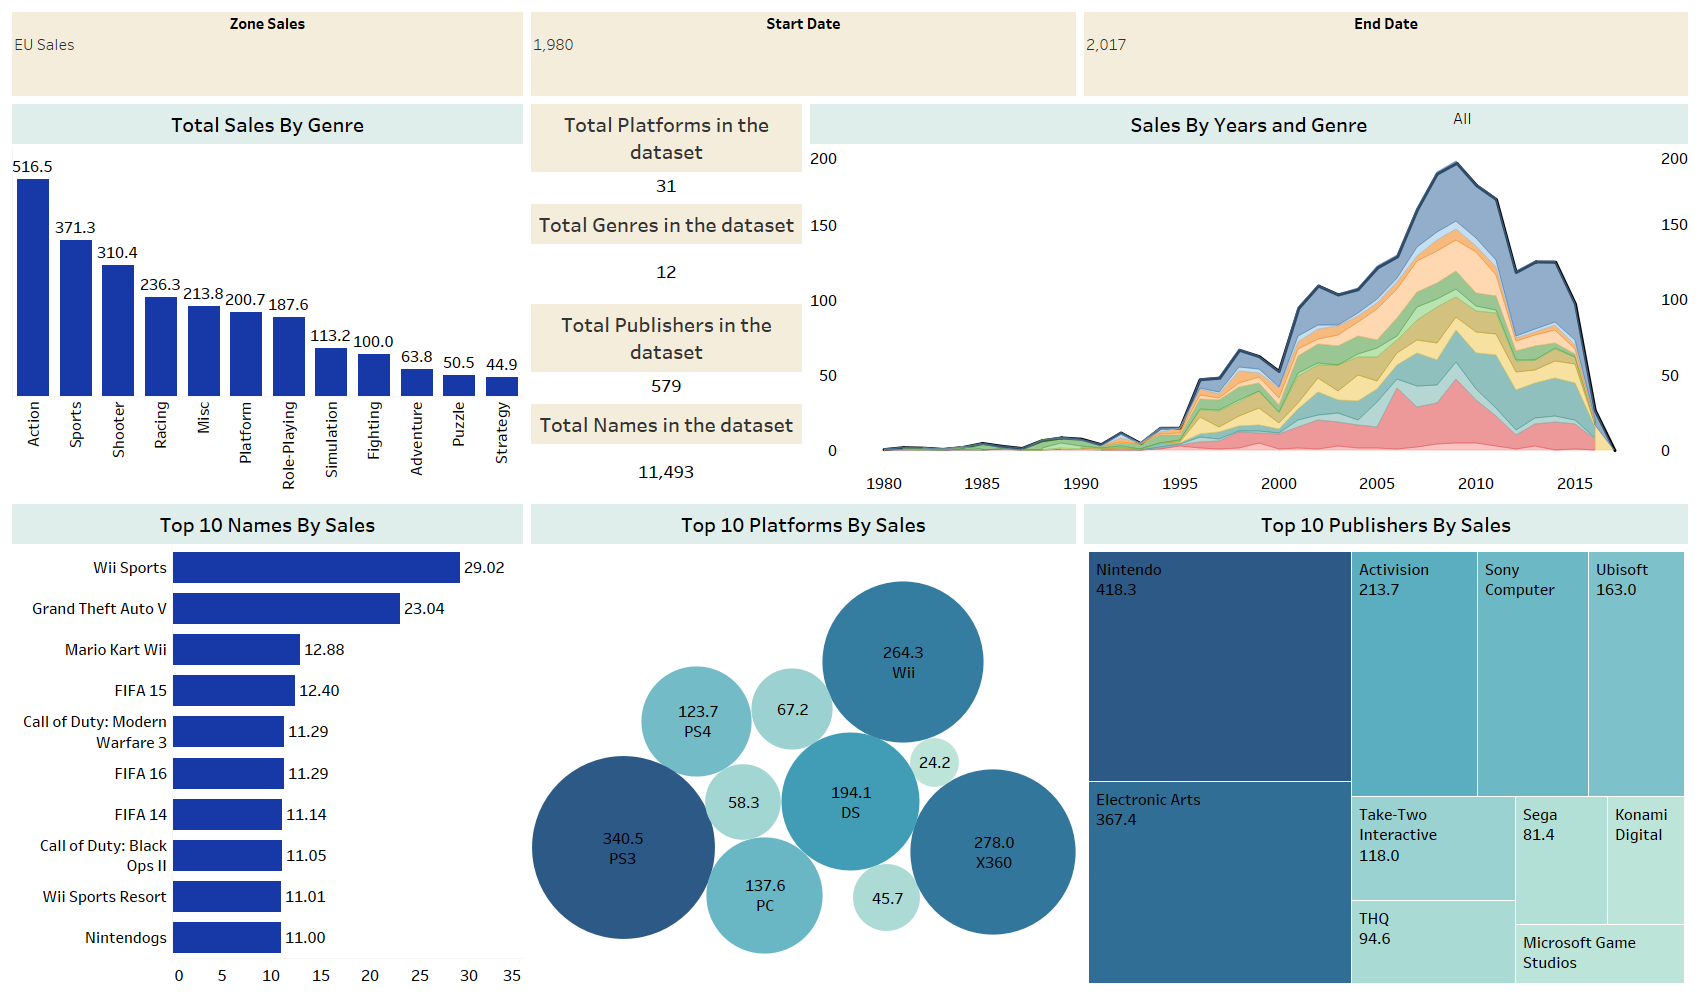

The dashboard page shown, as its layout file describes it:
{"tool":"tableau","page":{"name":"Dashboard 1","canvas":[1700,960],"ordinal":0},"visuals":[{"type":"parameter","param":"[Parameters].[Parameter 1]","box":[8,8,519.3,88.6]},{"type":"parameter","param":"[Parameters].[Parameter 2]","box":[527.3,8,552.7,88.6]},{"type":"parameter","param":"[Parameters].[Parameter 3]","box":[1080,8,612,88.6]},{"type":"worksheet","title":"Total Sales By Genre","mark":"Automatic","rows":["Calculation_377739459395584000"],"cols":["Genre"],"box":[8,96.6,519.3,383.4]},{"type":"worksheet","title":"Total Platforms in the dataset","mark":"Automatic","box":[527.3,96.6,278.8,95.9]},{"type":"worksheet","title":"Sales By Years and Genre","mark":"Automatic","rows":["Calculation_377739459395584000","Calculation_377739459395584000"],"cols":["Year"],"box":[806.1,96.6,885.9,383.4]},{"type":"filter","title":"Sales By Years and Genre","param":"[federated.0aacl4o197uxlo16p668u002sxhb].[none:Genre:nk]","box":[1451,103.7,234,30.7]},{"type":"worksheet","title":"Total Genres in the dataset","mark":"Automatic","box":[527.3,192.5,278.8,95.8]},{"type":"worksheet","title":"Total Publishers in the dataset","mark":"Automatic","box":[527.3,288.3,278.8,95.8]},{"type":"worksheet","title":"Total Names in the dataset","mark":"Automatic","box":[527.3,384.1,278.8,95.9]},{"type":"worksheet","title":"Top 10 Names By Sales","mark":"Automatic","rows":["Name"],"cols":["Calculation_377739459395584000"],"box":[8,480,519.3,472]},{"type":"worksheet","title":"Top 10 Platforms By Sales ","mark":"Circle","box":[527.3,480,552.9,472]},{"type":"worksheet","title":"Top 10 Publishers By Sales","mark":"Automatic","box":[1080.2,480,611.8,472]}]}

Visuals, with their boxes on the page's 1700x960 design canvas (x1, y1, x2, y2). These are canvas units, not pixel positions in the 1700x1000 screenshot, which may show the page scaled, cropped or inside an application window:
parameter: select_region(8, 8, 527, 97)
parameter: select_region(527, 8, 1080, 97)
parameter: select_region(1080, 8, 1692, 97)
"Total Sales By Genre" worksheet: select_region(8, 97, 527, 480)
"Total Platforms in the dataset" worksheet: select_region(527, 97, 806, 192)
"Sales By Years and Genre" worksheet: select_region(806, 97, 1692, 480)
"Sales By Years and Genre" filter: select_region(1451, 104, 1685, 134)
"Total Genres in the dataset" worksheet: select_region(527, 192, 806, 288)
"Total Publishers in the dataset" worksheet: select_region(527, 288, 806, 384)
"Total Names in the dataset" worksheet: select_region(527, 384, 806, 480)
"Top 10 Names By Sales" worksheet: select_region(8, 480, 527, 952)
"Top 10 Platforms By Sales " worksheet (Circle marks): select_region(527, 480, 1080, 952)
"Top 10 Publishers By Sales" worksheet: select_region(1080, 480, 1692, 952)
